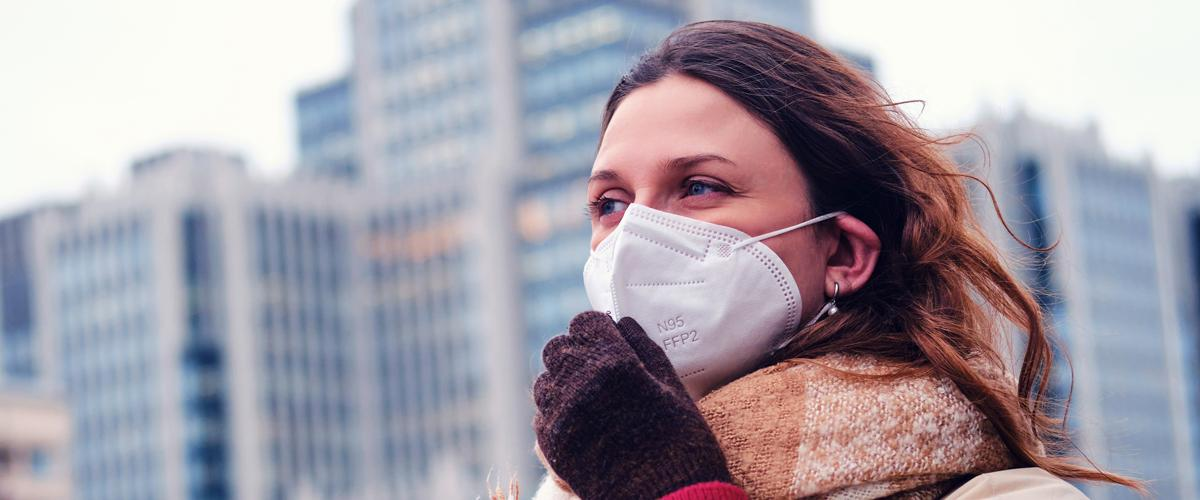mask: (579, 199, 813, 397)
